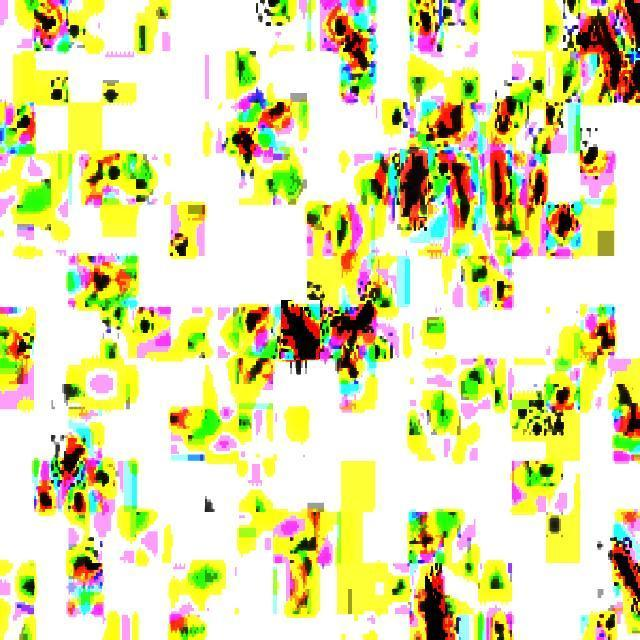rice-bug: (281, 300, 320, 360), (338, 288, 374, 344), (400, 149, 428, 217), (426, 573, 448, 640), (614, 551, 638, 597)
